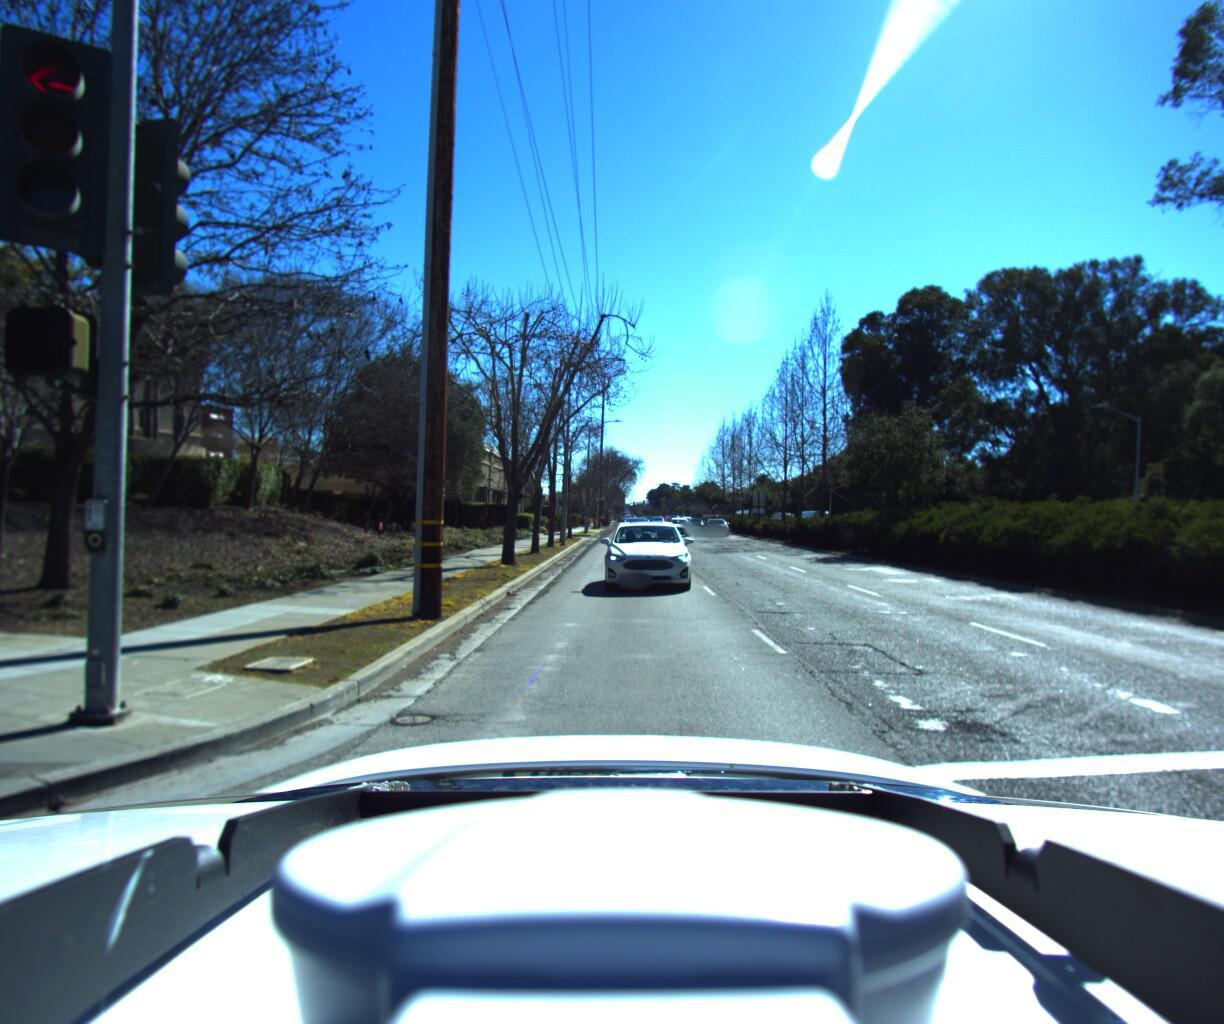car: (602, 517, 696, 595), (664, 514, 694, 535)
